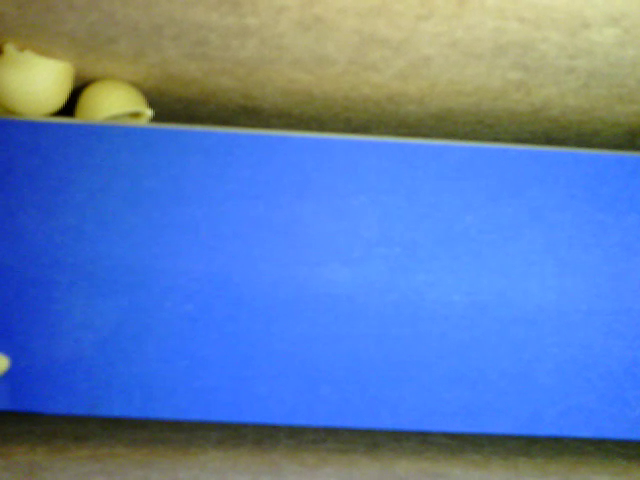shell: (1, 42, 74, 118), (75, 77, 151, 125)
